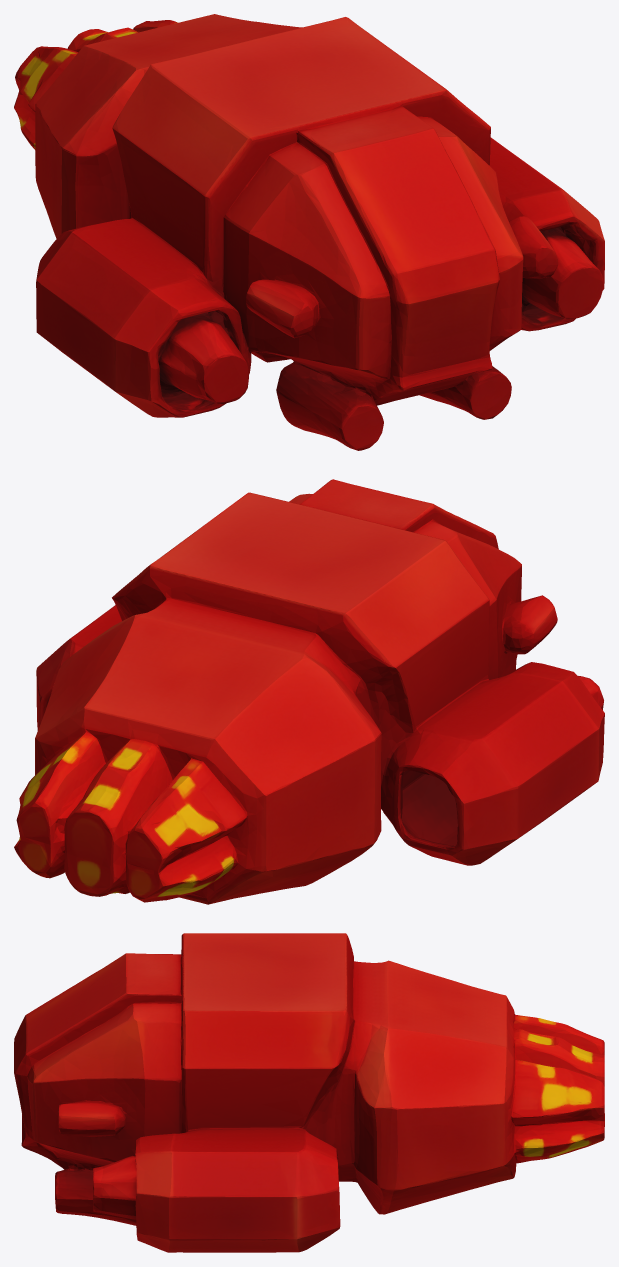
The model's file is pirate-breaching.glb.
3 views of the same model, one above another, from view 1: azimuth 30°, elevation 25°; view 2: azimuth 150°, elevation 25°; view 3: azimuth 270°, elevation 25° (orthographic). The views are drawn at different scales.
Parts seen in each view (by area): view 1: world; view 2: world; view 3: world.
Boxes of the visible parts, <box> form: world: <box>14,14,604,450</box>; world: <box>14,479,604,904</box>; world: <box>14,933,604,1252</box>.
Bounding box in the file's own units: 0.7691 × 0.4261 × 1.
Materials: 1 (1 with a texture image).
